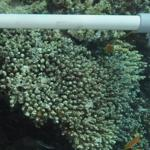dead: (4, 32, 148, 148)
